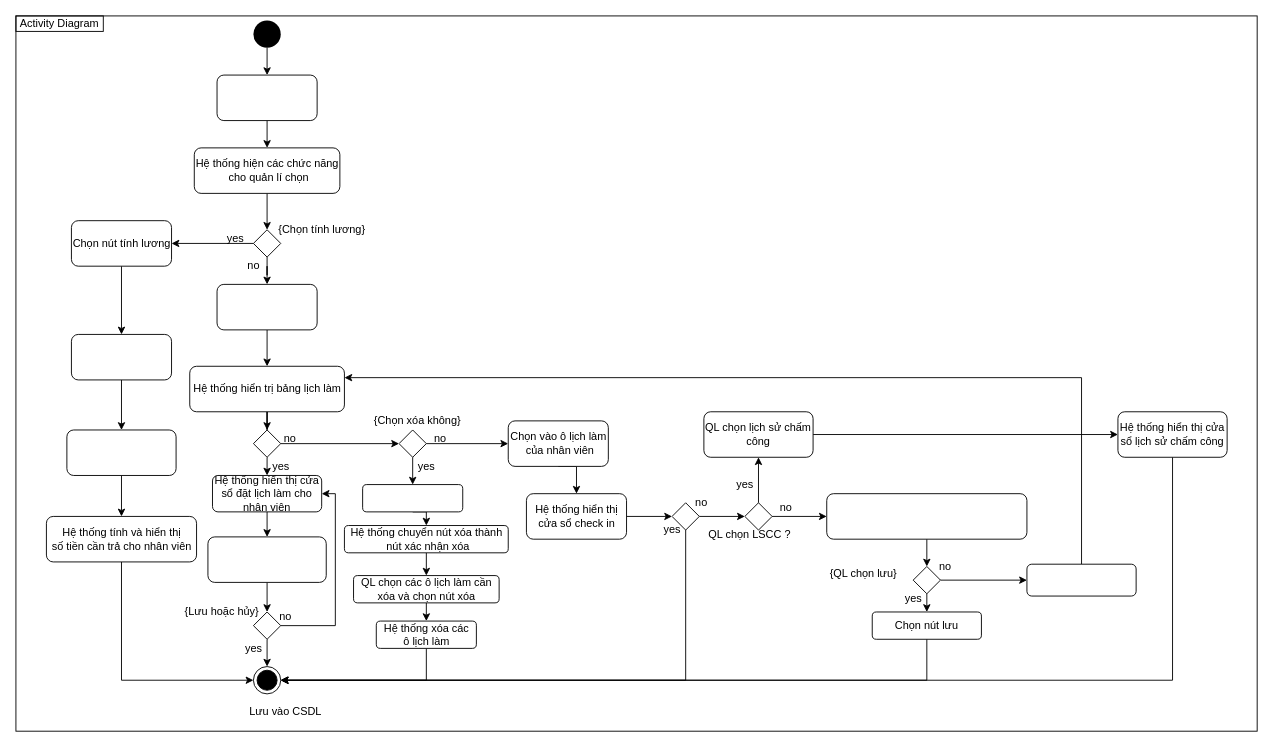
Image size: 1273x747. Some labels were removed from this diagram. Here are the shapes that lost their labels. From the top down, the centre of each, then its label:
At point (266, 97): "Quản lí đăng nhập vào hệ thống".
At point (266, 306): "Chọn nút lịch làm".
At point (121, 357): "Hệ thống hiển thị ra trang tính lương".
At point (121, 452): "Quản lí nhập tiền vào phần trả nhân viên".
At point (412, 498): "Chọn nút Xóa".
At point (926, 516): "QL chọn thay đổi thời gian vào, thời gian ra".
At point (266, 559): "Quản lí chọn lưu khi đã đặt lịch cho nhân viên".
At point (1081, 579): "Chọn nút hủy".
